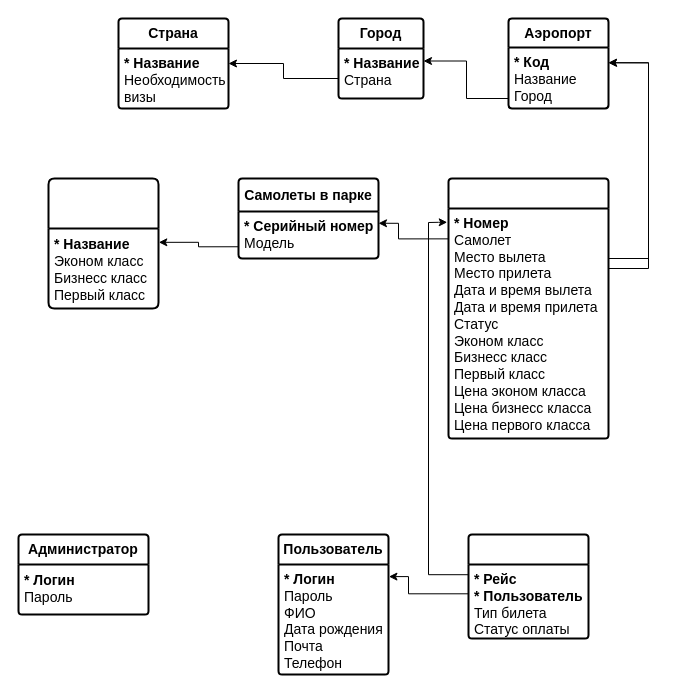
The diagram is 674 pixels wide and 692 high, and some of its shapes have lost their labels. Here are the shapes that lost their labels. From the top down, the box of each, then its label:
(47, 177, 159, 309): Модель самолета
(447, 177, 609, 439): Рейс
(467, 533, 589, 639): Бронь
